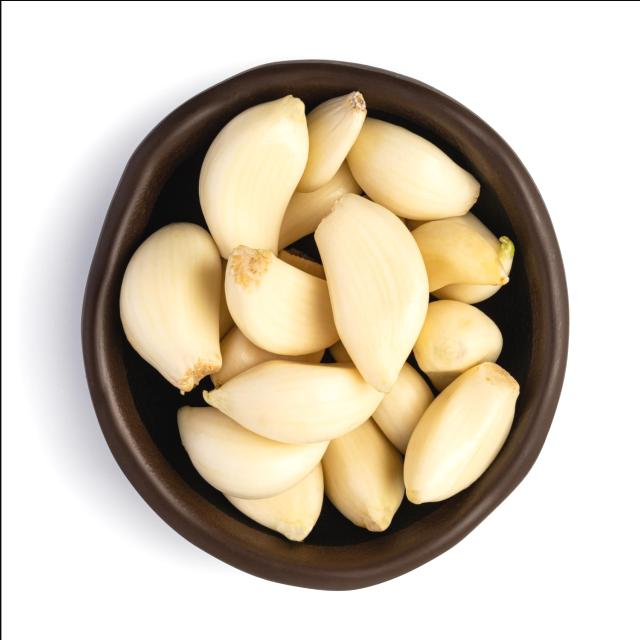garlic: (312, 188, 430, 394), (399, 362, 525, 513), (193, 98, 302, 267), (121, 220, 221, 394), (336, 111, 483, 228), (170, 392, 330, 496), (218, 251, 344, 361), (320, 425, 407, 535)
